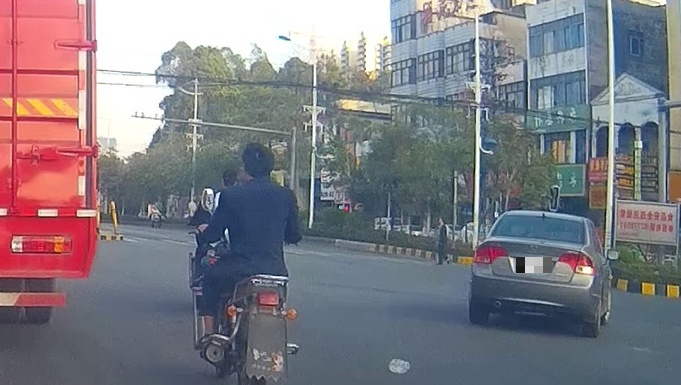L_light: (472, 245, 508, 264)
R_light: (557, 251, 594, 276)
T_light: (535, 217, 551, 221)
day-right: (469, 210, 599, 338)
plate_1: (516, 257, 552, 273)
